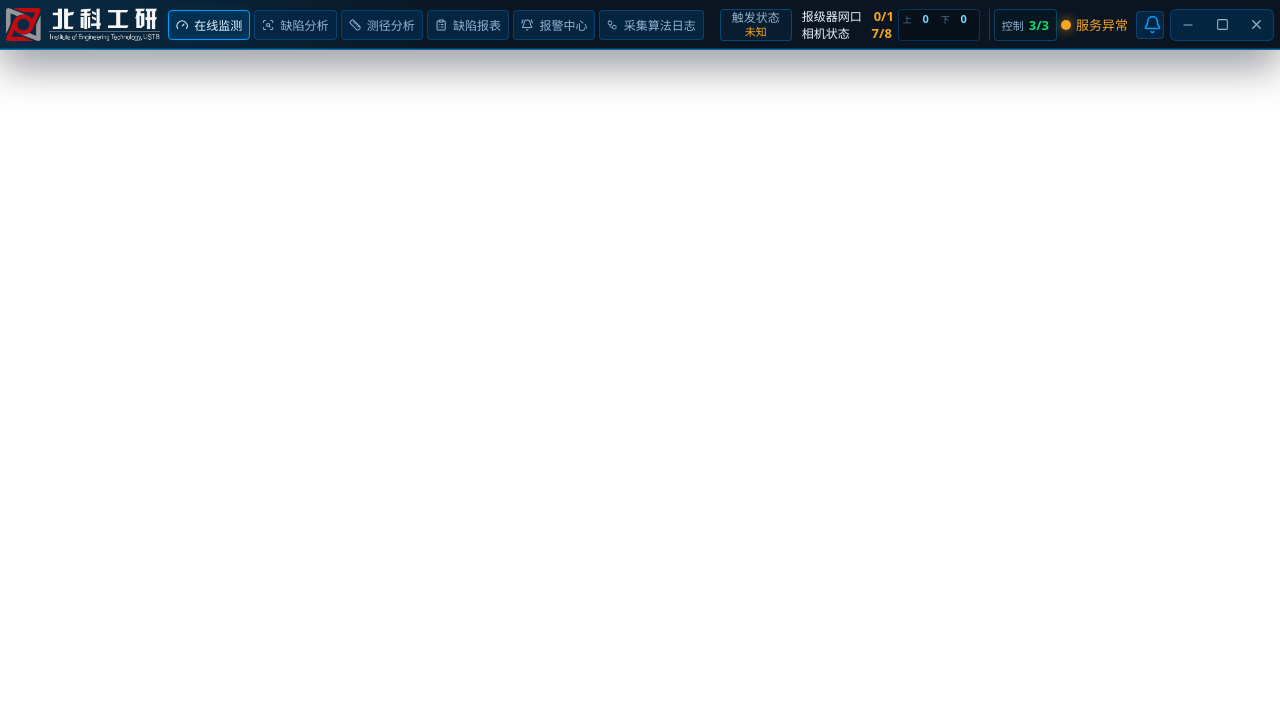
BrandHeader › does not fall back to simulated receiver speeds when the realtime network monitor is offline
Expected: the element titled "实时上传 0 Mbps / 下载 0 Mbps" is shown, [898, 8, 980, 40]
What coordinates should you click on to do the following:
click the button with aria-label "报级器网口，在线 0 路，异常 1 路"
I would click on:
 (844, 16)
Its box is [796, 8, 893, 24].
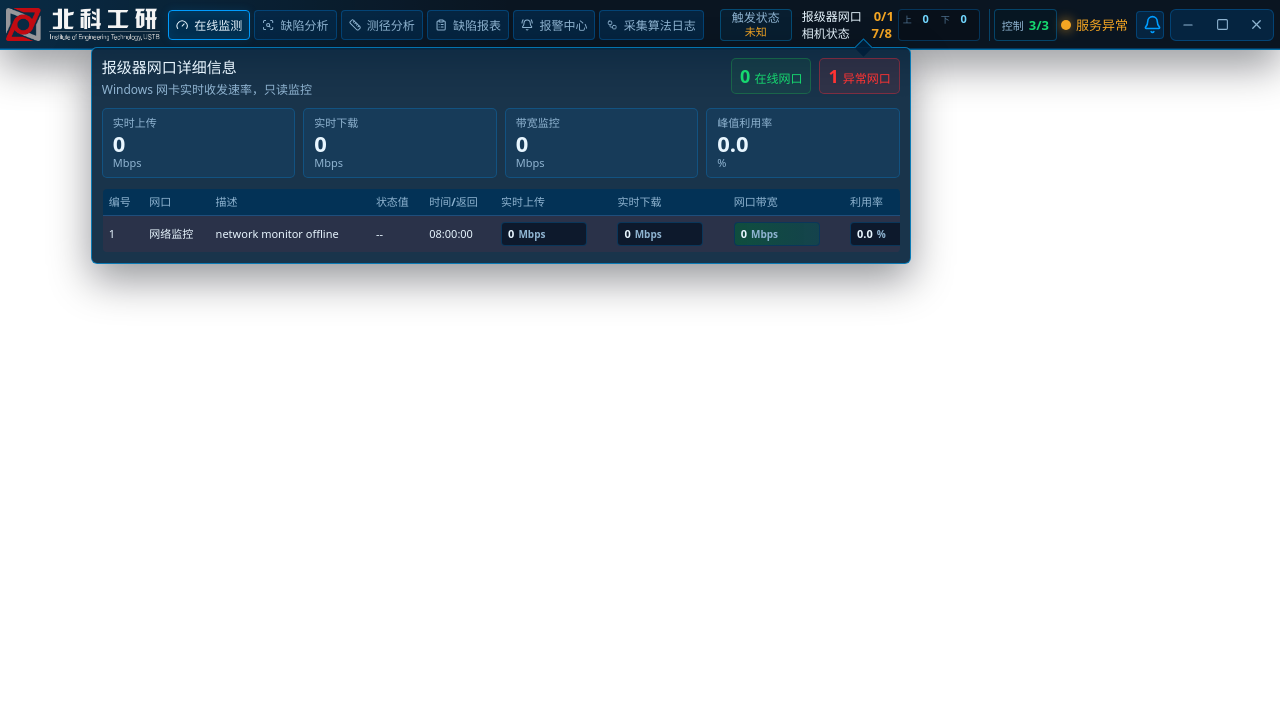
Now the text "网络监控" is shown, box [143, 215, 210, 252]
Now the text "network monitor offline" is shown, box [210, 215, 370, 252]
Now the element named "1 上传 0 Mbps" reads "0 Mbps", box [501, 222, 587, 246]
